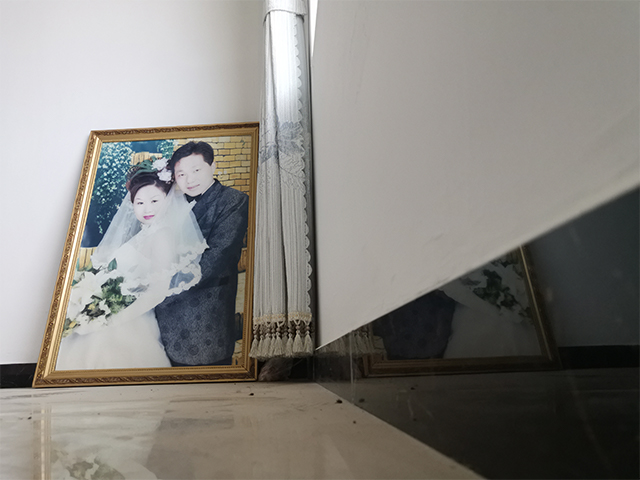curtain: (244, 1, 320, 371)
